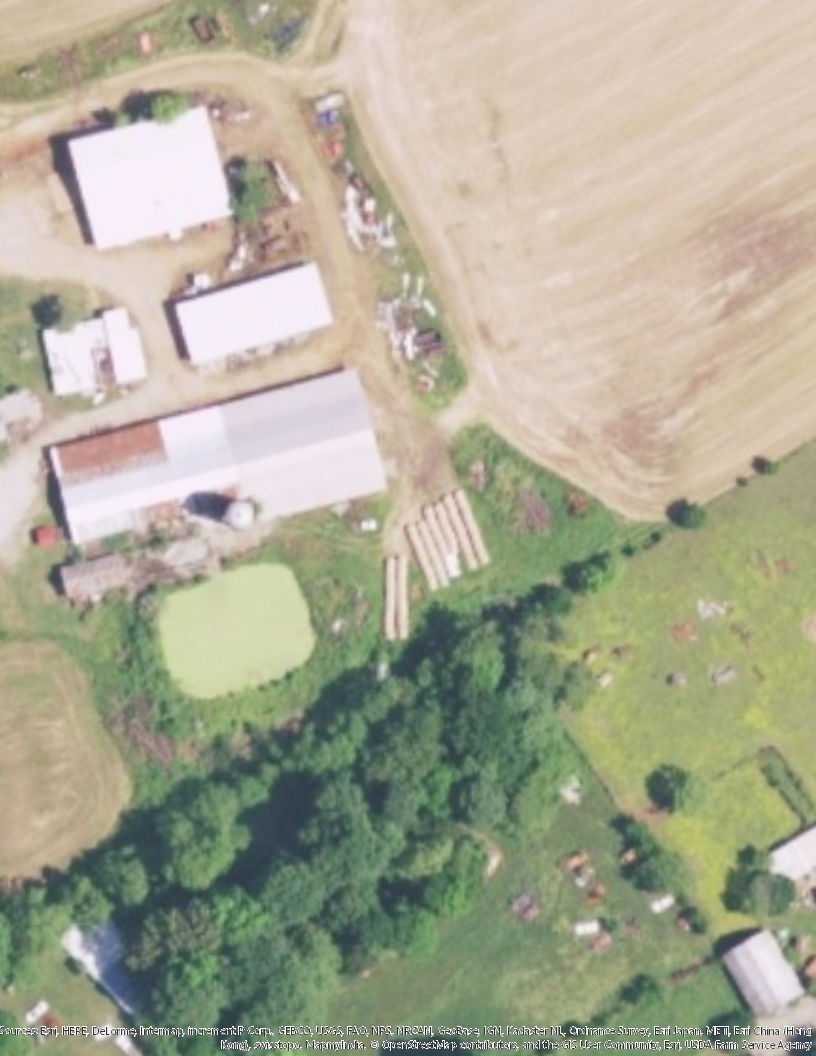cafo: (45, 366, 392, 569), (166, 258, 346, 364)
